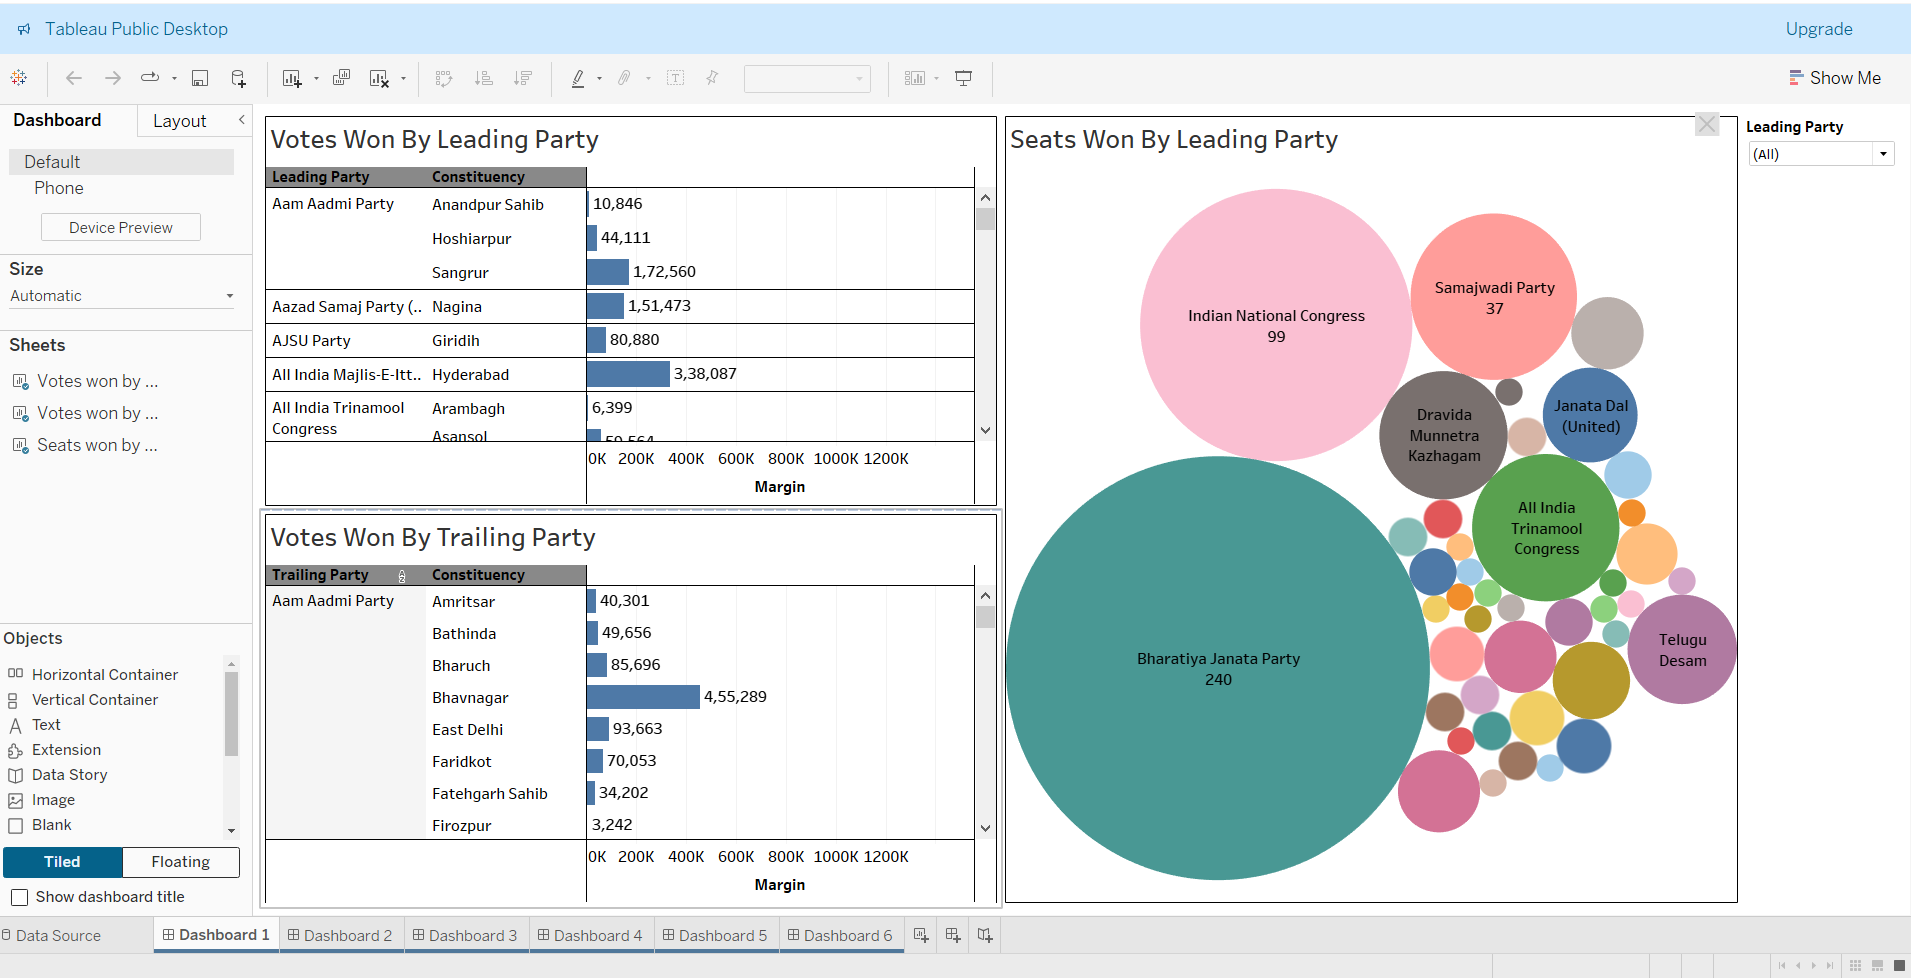

Layout of this report page (visuals, bound fields, positions):
{"tool":"tableau","page":{"name":"Dashboard 1","canvas":[1000,1000],"units":"permille","ordinal":0},"visuals":[{"type":"worksheet","title":"Votes won by leading party","mark":"Bar","rows":["Leading Party","Constituency"],"cols":["Margin"],"box":[5,9.9,445.1,490.1]},{"type":"worksheet","title":"Seats won by Leading Party","mark":"Circle","box":[450.1,9.9,445.1,980.3]},{"type":"dashboard-object","box":[870.2,9.9,15,29.6]},{"type":"filter","title":"Votes won by leading party","param":"[federated.0h8ex2p1y0920d146o5uc1f2loxi].[none:Leading Party:nk]","box":[895.1,9.9,99.9,75.2]},{"type":"worksheet","title":"Votes won by trailing party","mark":"Automatic","rows":["Trailing Party","Constituency"],"cols":["Margin"],"box":[5,500,445.1,490.1]}]}

Visuals, with their boxes on the dashboard's canvas, which has no fixed pixel size, in thousandths of its width and height (x1, y1, x2, y2). These are canvas units, not pixel positions in the 1911x978 screenshot, which may show the page scaled, cropped or inside an application window:
"Votes won by leading party" worksheet (Bar marks): l=5, t=10, r=450, b=500
"Seats won by Leading Party" worksheet (Circle marks): l=450, t=10, r=895, b=990
dashboard-object: l=870, t=10, r=885, b=40
"Votes won by leading party" filter: l=895, t=10, r=995, b=85
"Votes won by trailing party" worksheet: l=5, t=500, r=450, b=990
